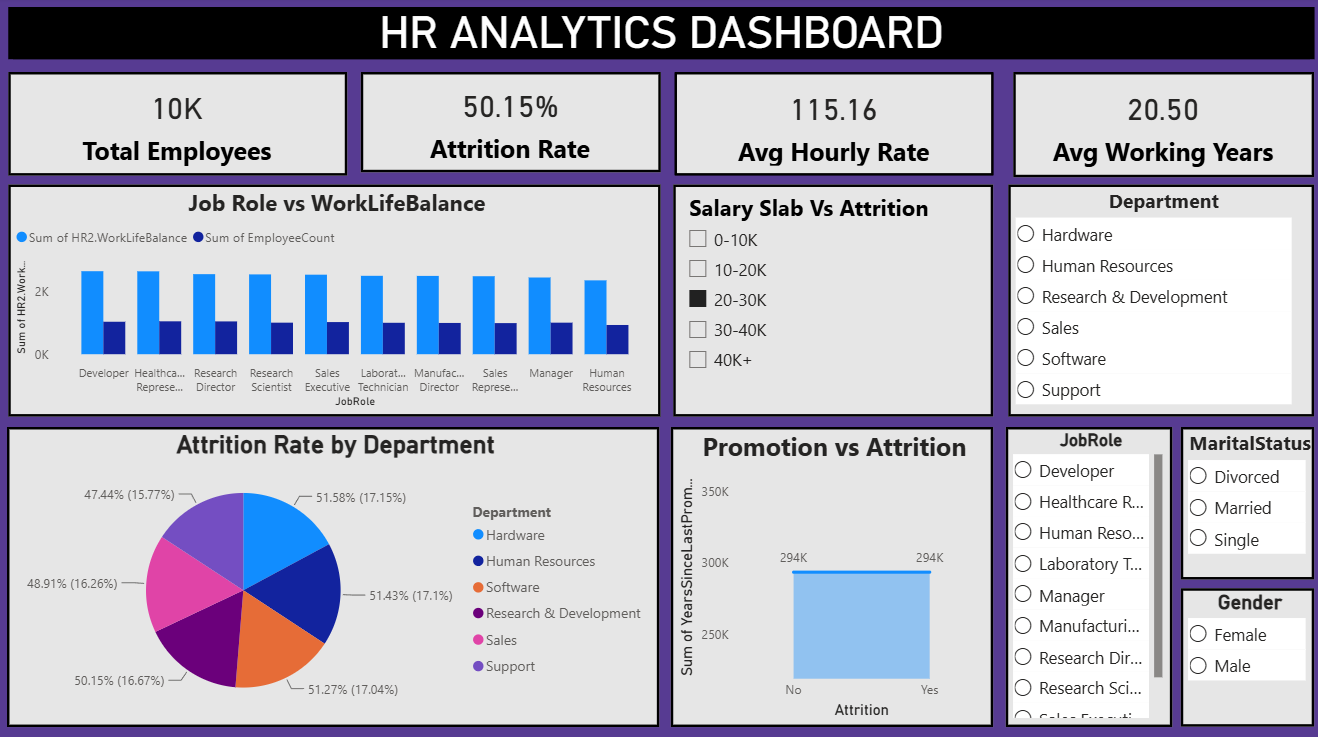

What the dashboard file says about the page in this screenshot:
{"tool":"powerbi","page":{"name":"Page 1","canvas":[1280,720],"ordinal":0},"visuals":[{"type":"card","fields":{"Values":["HR1.Total Employees"]},"box":[10.9,72.4,326.9,100.1],"z":0},{"type":"card","fields":{"Values":["HR1.Attrition Rate"]},"box":[351.1,72.4,289.5,96.5],"z":1000},{"type":"card","fields":{"Values":["HR1.Avg Hourly Rate"]},"box":[653.9,72.4,307.6,100.1],"z":2000},{"type":"card","fields":{"Values":["HR2.Avg Working Years"]},"box":[980.8,72.4,290.8,101.3],"z":3000},{"type":"pieChart","fields":{"Category":["HR1.Department"],"Y":["HR1.Attrition Rate"]},"box":[9.7,415,629.8,289.5],"z":4000},{"type":"slicer","fields":{"Values":["HRDATA.Salary Slab Vs Attrition"]},"box":[652.7,181,308.8,224.4],"z":5000},{"type":"clusteredColumnChart","title":"Job Role vs WorkLifeBalance","fields":{"Category":["HRDATA.JobRole"],"Y":["Sum(HRDATA.HR2.WorkLifeBalance)","Sum(HRDATA.EmployeeCount)"]},"box":[10.9,181,629.8,224.4],"z":6000},{"type":"areaChart","title":"Promotion vs Attrition","fields":{"Category":["HR1.Attrition"],"Y":["Sum(HR2.YearsSinceLastPromotion)"]},"box":[650.3,415,311.3,289.5],"z":7000},{"type":"listSlicer","fields":{"Values":["HR1.Gender"]},"box":[1142.5,570.6,129.1,133.9],"z":8000},{"type":"listSlicer","fields":{"Values":["HRDATA.Department"]},"box":[976,181,295.6,224.4],"z":9000},{"type":"listSlicer","fields":{"Values":["HRDATA.JobRole"]},"box":[973.6,415,160.5,289.5],"z":10000},{"type":"listSlicer","fields":{"Values":["HR1.MaritalStatus"]},"box":[1142.5,415,129.1,147.2],"z":11000},{"type":"textbox","title":"HR ANALYTICS DASHBOARD","box":[10.9,9.7,1260.7,50.7],"z":11001}]}

Visuals, with their boxes in screenshot pixels (x1, y1, x2, y2), scaled from the page's 1280x720 canvas onto the 1318x737 screenshot:
card - HR1.Total Employees: region(11, 74, 348, 177)
card - HR1.Attrition Rate: region(362, 74, 660, 173)
card - HR1.Avg Hourly Rate: region(673, 74, 990, 177)
card - HR2.Avg Working Years: region(1010, 74, 1309, 178)
pieChart - HR1.Department x HR1.Attrition Rate: region(10, 425, 658, 721)
slicer - HRDATA.Salary Slab Vs Attrition: region(672, 185, 990, 415)
"Job Role vs WorkLifeBalance" clusteredColumnChart: region(11, 185, 660, 415)
"Promotion vs Attrition" areaChart: region(670, 425, 990, 721)
listSlicer - HR1.Gender: region(1176, 584, 1309, 721)
listSlicer - HRDATA.Department: region(1005, 185, 1309, 415)
listSlicer - HRDATA.JobRole: region(1003, 425, 1168, 721)
listSlicer - HR1.MaritalStatus: region(1176, 425, 1309, 575)
"HR ANALYTICS DASHBOARD" textbox: region(11, 10, 1309, 62)
